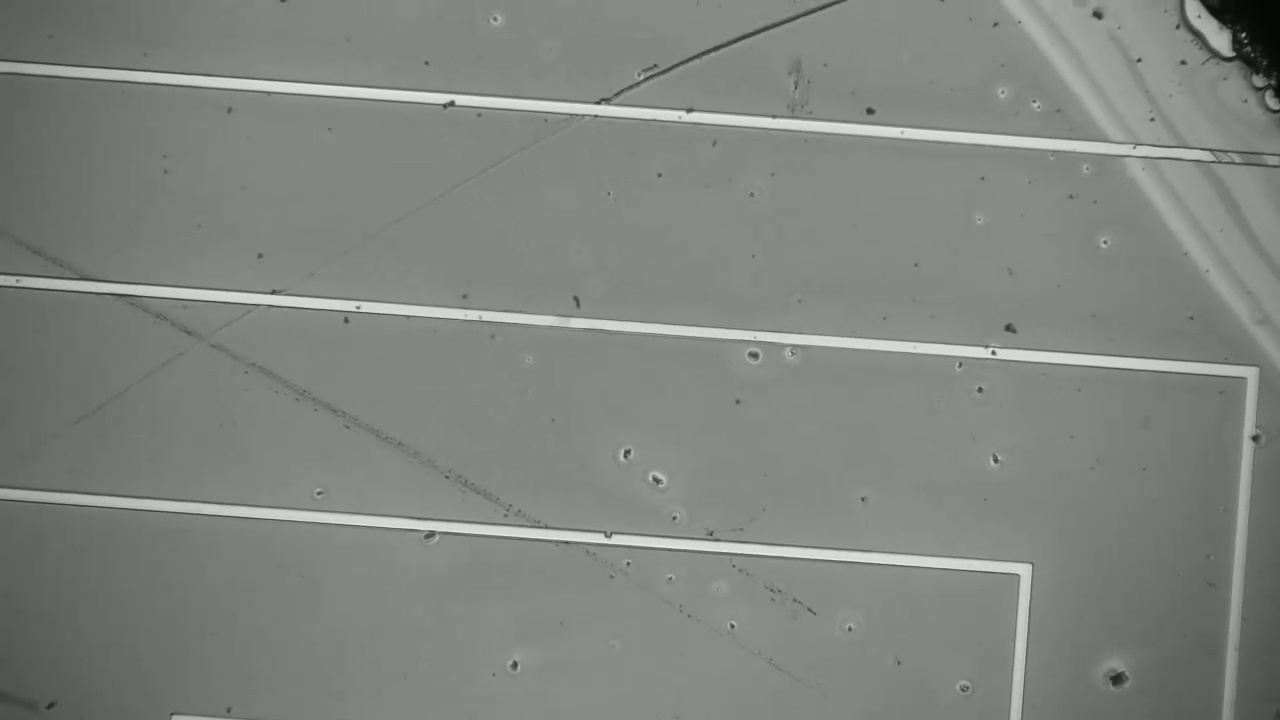edge_bite: (595, 525, 625, 551)
gray_line: (1189, 133, 1280, 182)
scratch: (13, 4, 854, 469), (8, 233, 817, 692)
stains_enbedded: (1234, 419, 1274, 459), (438, 84, 470, 122)
